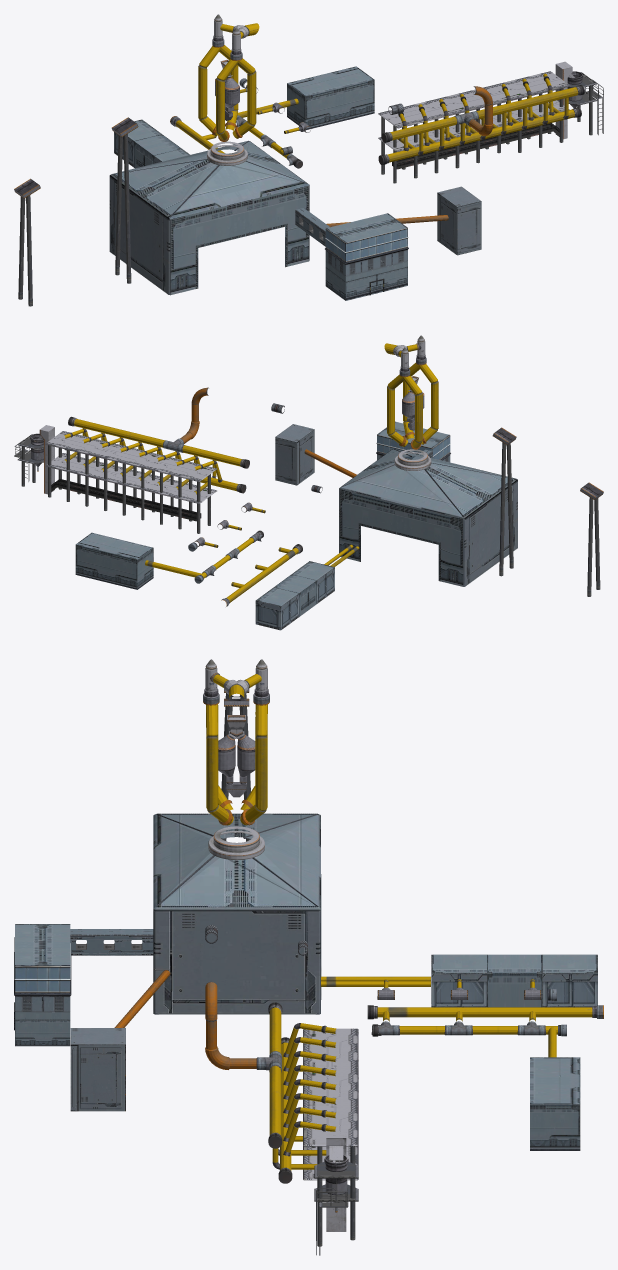
Rendered from stove.gltf.
The picture shows the model from 3 angles, top to bottom: view 1: azimuth 30°, elevation 25°; view 2: azimuth 150°, elevation 25°; view 3: azimuth 270°, elevation 25°; orthographic projection. The views are drawn at different scales.
Visible parts, largest first — view 1: ChamferBowx006, Cylinder061, Box341, Box006, ChamferBox001, Box340, Cylinder087, Box007, Object040, ChamferBox032, Cylinder026, ChamferBox030 (+4 smaller); view 2: ChamferBowx006, Cylinder061, Box006, Box007, ChamferBox001, ChamferBox032, Cylinder087, Box340, Box341, Object040, Cylinder026, Cylinder092 (+2 smaller); view 3: ChamferBowx006, Cylinder061, Box007, Box341, ChamferBox001, Box006, Box340, ChamferBox030, Cylinder026, Cylinder033, Cylinder092, Line049 (+1 smaller).
Boxes of the visible parts, x1,y1,x2,y2 form: ChamferBowx006: (109,140,309,295); Cylinder061: (175,45,578,162); Box341: (325,213,408,300); Box006: (287,66,374,129); ChamferBox001: (378,71,570,128); Box340: (437,186,481,255); Cylinder087: (18,133,131,306); Box007: (114,119,189,168); Object040: (392,123,559,169); ChamferBox032: (378,100,569,151); Cylinder026: (326,86,493,226); ChamferBox030: (295,208,329,246); ChamferBowx006: (339,449,517,586); Cylinder061: (64,362,438,602); Box006: (75,532,153,589); Box007: (255,561,334,630); ChamferBox001: (45,431,216,481); ChamferBox032: (45,453,216,503); Cylinder087: (499,442,600,596); Box340: (275,424,314,485); Box341: (376,421,450,462); Object040: (51,479,201,521); Cylinder026: (180,387,356,477); Cylinder092: (394,449,431,470); ChamferBowx006: (153,813,321,1014); Cylinder061: (206,704,592,1170); Box007: (431,954,597,1007); Box341: (14,924,71,1046); ChamferBox001: (303,1028,358,1146); Box006: (530,1057,580,1150); Box340: (70,1028,125,1111); ChamferBox030: (70,929,153,955); Cylinder026: (114,970,256,1069); Cylinder033: (218,734,255,776); Cylinder092: (208,826,264,859); Line049: (203,659,269,705).
Bounding box in the file's own units: 177 × 64.07 × 106.
Materials: 3 (3 with a texture image).
